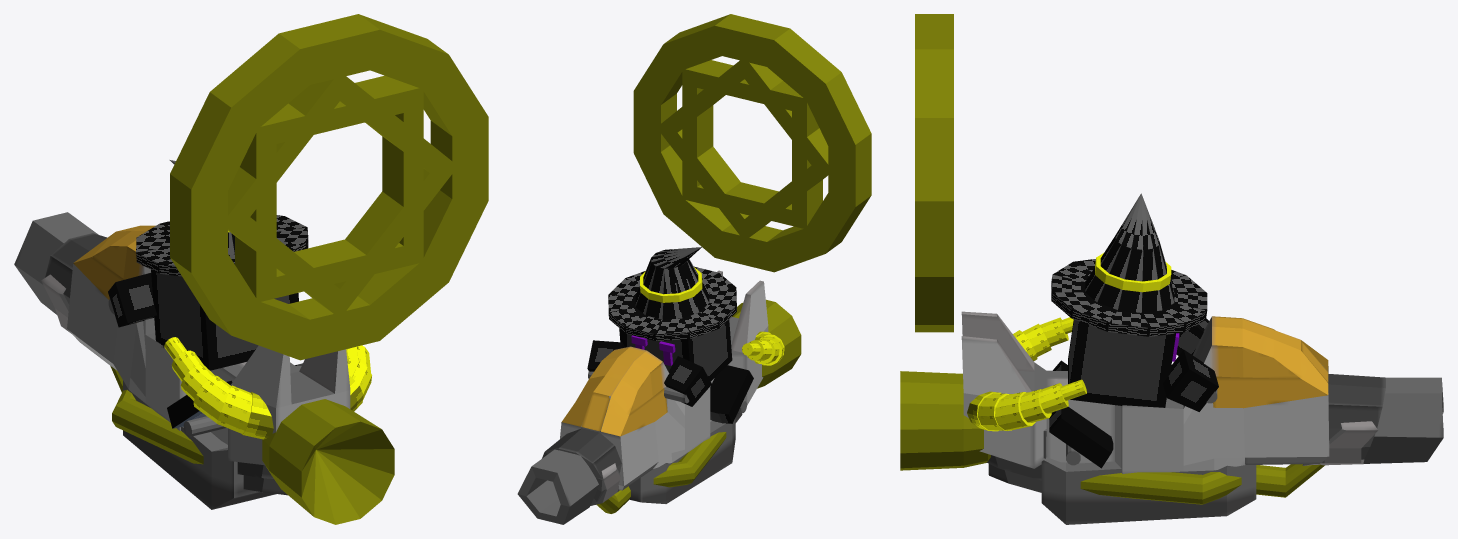
File: to-hu-noruyatu-kyouka2.fbx
3 views of the same model, side by side, from view 1: azimuth 30°, elevation 25°; view 2: azimuth 150°, elevation 25°; view 3: azimuth 270°, elevation 25° (orthographic). The views are drawn at different scales.
Parts seen in each view (by area): view 1: tube_1, cuboid_15, cuboid_11, cuboid_16, cylinder_19, cuboid, cuboid_12, tube, cylinder_22, cylinder_16, cuboid_4, cylinder_3 (+10 smaller); view 2: tube_1, cuboid_11, cuboid_15, cuboid_16, cylinder_16, tube, cylinder_17, cuboid, cuboid_12, cylinder_3, cylinder_19, cuboid_2 (+6 smaller); view 3: cuboid_11, tube_1, cuboid_12, cuboid, cylinder_19, cylinder_16, tube, cylinder_17, cylinder_21, cylinder_3, cuboid_3, cuboid_1 (+9 smaller).
Boxes of the visible parts, left/top/right/bottom form: tube_1: left=170, top=14, right=488, bottom=360; cuboid_15: left=235, top=75, right=423, bottom=301; cuboid_11: left=67, top=225, right=350, bottom=465; cuboid_16: left=224, top=76, right=457, bottom=317; cylinder_19: left=262, top=399, right=394, bottom=524; cuboid: left=151, top=269, right=298, bottom=370; cuboid_12: left=123, top=380, right=276, bottom=509; tube: left=14, top=212, right=98, bottom=314; cylinder_22: left=112, top=390, right=203, bottom=464; cylinder_16: left=136, top=215, right=308, bottom=276; cuboid_4: left=108, top=273, right=156, bottom=327; cylinder_3: left=45, top=233, right=107, bottom=304; tube_1: left=633, top=14, right=871, bottom=272; cuboid_11: left=560, top=270, right=768, bottom=490; cuboid_15: left=682, top=60, right=822, bottom=229; cuboid_16: left=656, top=60, right=832, bottom=237; cylinder_16: left=608, top=266, right=736, bottom=340; tube: left=517, top=449, right=598, bottom=524; cylinder_17: left=635, top=247, right=709, bottom=319; cuboid: left=619, top=319, right=732, bottom=381; cuboid_12: left=628, top=418, right=735, bottom=503; cylinder_3: left=542, top=428, right=621, bottom=504; cylinder_19: left=732, top=299, right=801, bottom=388; cuboid_2: left=710, top=365, right=753, bottom=423; cuboid_11: left=961, top=311, right=1329, bottom=473; tube_1: left=915, top=14, right=953, bottom=332; cuboid_12: left=1041, top=457, right=1256, bottom=524; cuboid: left=1068, top=319, right=1175, bottom=407; cylinder_19: left=900, top=371, right=990, bottom=470; cylinder_16: left=1051, top=259, right=1207, bottom=336; tube: left=1363, top=377, right=1443, bottom=463; cylinder_17: left=1085, top=193, right=1174, bottom=312; cylinder_21: left=1080, top=472, right=1241, bottom=504; cylinder_3: left=1302, top=374, right=1385, bottom=465; cuboid_3: left=1163, top=349, right=1218, bottom=411; cuboid_1: left=1049, top=407, right=1113, bottom=468.
Size of the model in its own units: 200 by 334 by 348.
